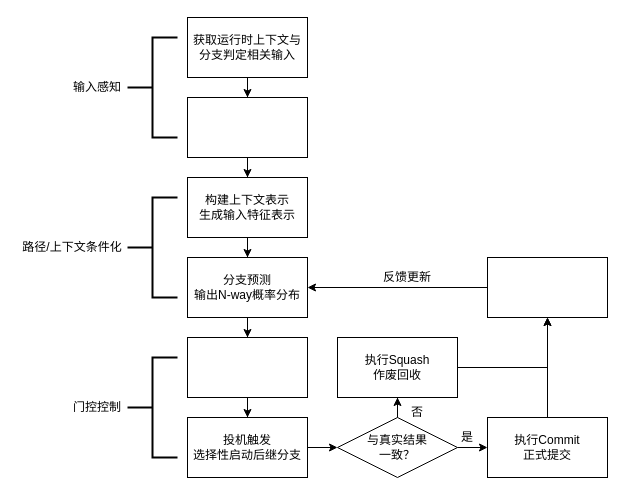
This 625x495 diagram has some shape labels left out. Here are the shapes that lost their labels. From the top down, the centre of each, then its label:
At pixel 247 127: "输入特征提取 字段选择/编码/分桶".
At pixel 547 287: "在线自适应更新 反馈真实结果 修正概率分布".
At pixel 247 367: "门控决策 阈值/预算/深度控制".
